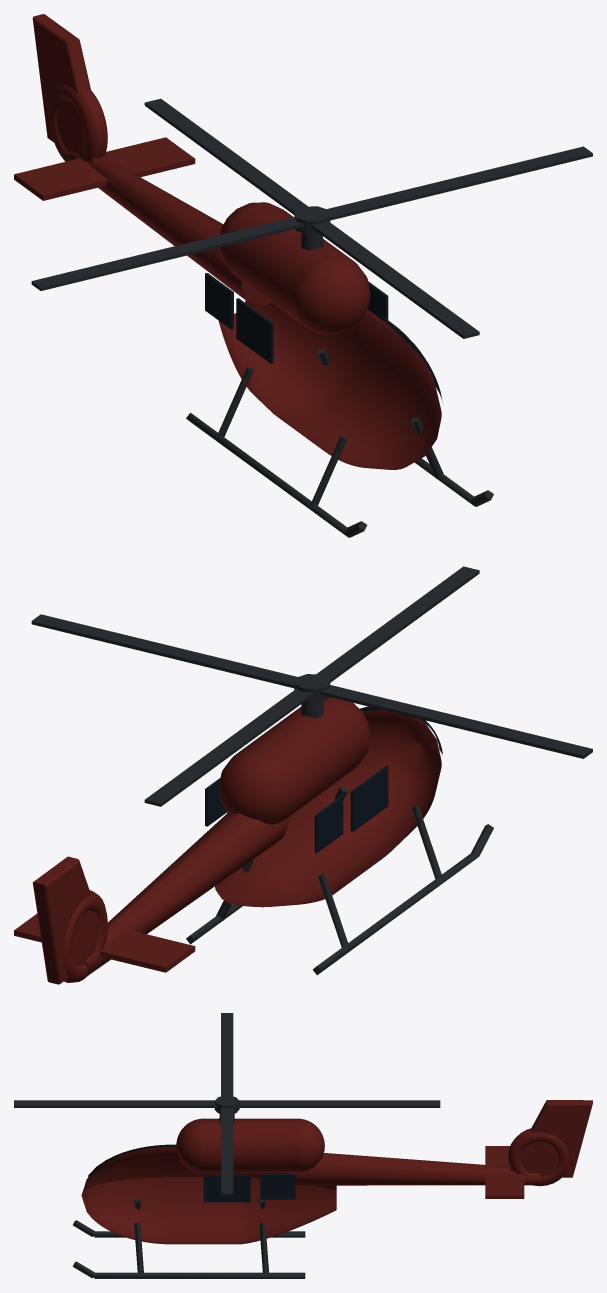
Rendered from helicopter.glb.
3 renders of one model, top to bottom at view 1: azimuth 30°, elevation 25°; view 2: azimuth 150°, elevation 25°; view 3: azimuth 270°, elevation 25°, orthographic. The views are drawn at different scales.
Bounding box in the file's own units: 10.9 × 4.44 × 14.81.
